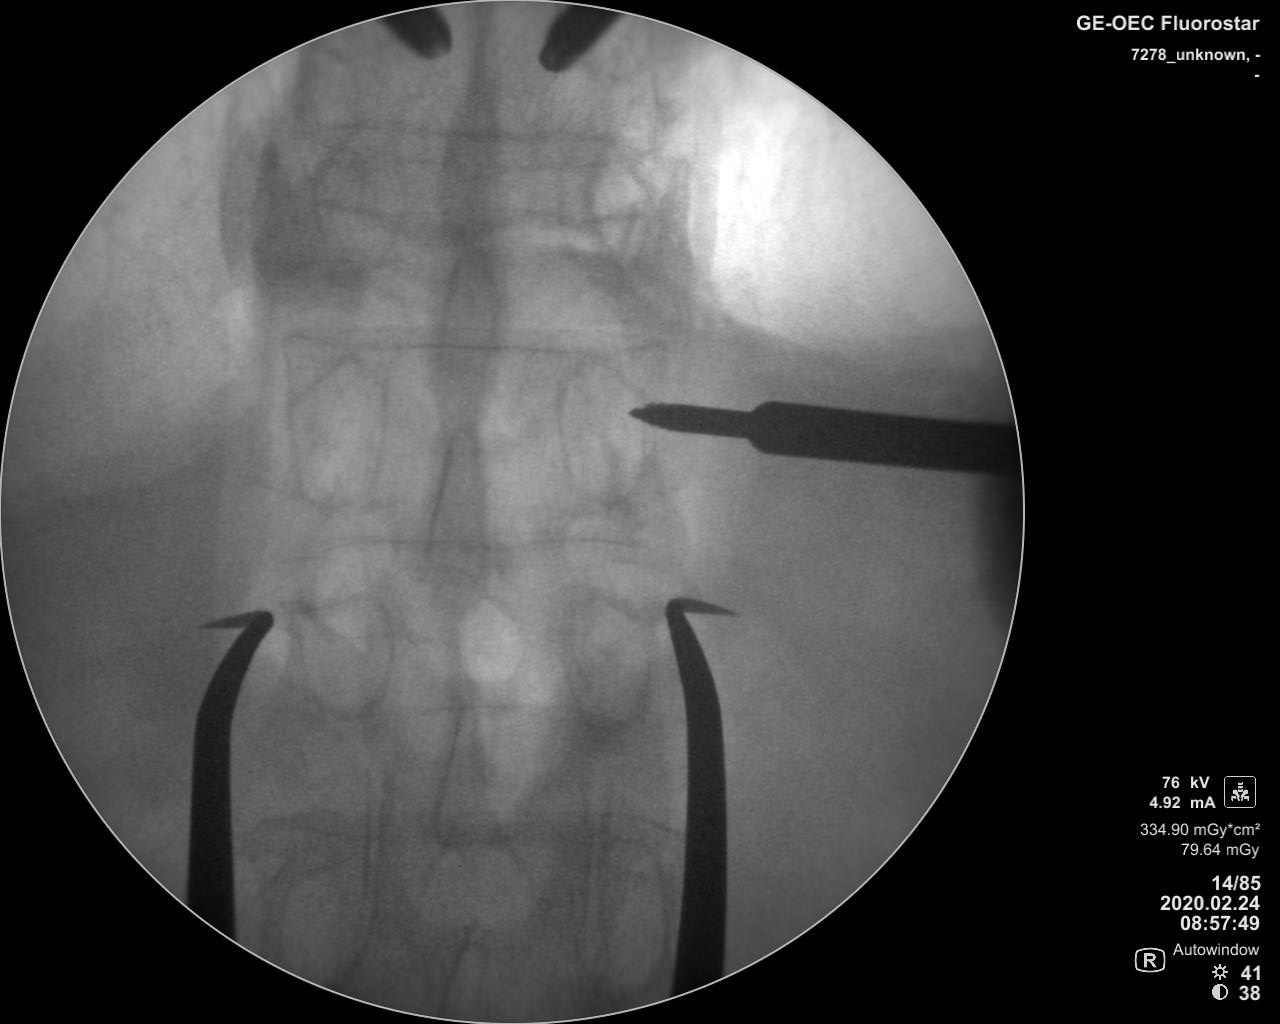eyes: (290, 335, 383, 513), (285, 582, 392, 722), (573, 840, 665, 990), (550, 600, 651, 734), (556, 362, 647, 506), (269, 851, 380, 967), (310, 144, 396, 276)
line: (280, 113, 654, 176), (250, 802, 676, 851), (269, 328, 678, 366), (262, 530, 678, 563)
nose: (417, 429, 496, 604), (433, 245, 503, 425), (440, 65, 502, 245), (428, 699, 498, 851)
